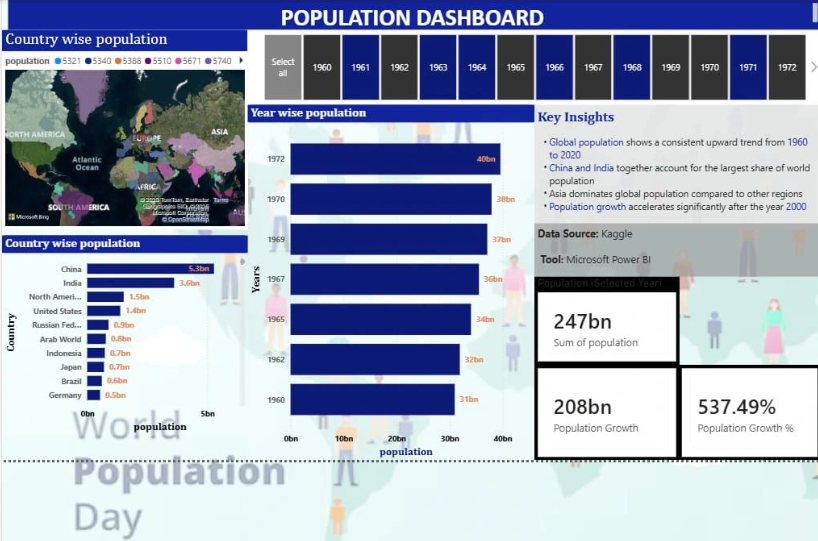

This screenshot's page, from the dashboard's own definition file:
{"tool":"powerbi","page":{"name":"Page 2","canvas":[1280,720],"ordinal":1},"visuals":[{"type":"textbox","box":[9.4,0,1269.9,47.2],"z":0},{"type":"filledMap","title":"Country wise population","fields":{"Category":["global.Country"],"Series":["global.population"]},"box":[0,47.2,383.6,311.8],"z":1000},{"type":"clusteredBarChart","title":"Country wise population ","fields":{"Category":["global.Country"],"Y":["Sum(global.population)"]},"box":[0,369,384,312],"z":2000},{"type":"slicer","fields":{"Values":["global.years"]},"box":[383.6,47.2,895.8,117.2],"z":3000},{"type":"barChart","title":"Year wise population ","fields":{"Y":["Sum(global.population)"],"Category":["global.years"]},"box":[383.6,164.4,447.9,555.6],"z":4000},{"type":"textbox","box":[831.5,164.4,447.9,194.6],"z":5000},{"type":"cardVisual","title":"Population (Selected Year)","fields":{"Data":["Sum(global.population)"]},"box":[831.5,432.8,226.8,138],"z":6000},{"type":"cardVisual","fields":{"Data":["global.Population Growth"]},"box":[831.5,570.7,226.8,149.3],"z":7000},{"type":"cardVisual","fields":{"Data":["global.Population Growth %"]},"box":[1056.4,570.7,223,149.3],"z":8000},{"type":"textbox","box":[831.5,349.6,447.9,83.2],"z":9000}]}

Visuals, with their boxes on the page's 1280x720 design canvas (x1, y1, x2, y2). These are canvas units, not pixel positions in the 818x541 screenshot, which may show the page scaled, cropped or inside an application window:
textbox: (9,0,1279,47)
"Country wise population" filledMap: (0,47,384,359)
"Country wise population " clusteredBarChart: (0,369,384,681)
slicer - global.years: (384,47,1279,164)
"Year wise population " barChart: (384,164,832,720)
textbox: (832,164,1279,359)
"Population (Selected Year)" cardVisual: (832,433,1058,571)
cardVisual - global.Population Growth: (832,571,1058,720)
cardVisual - global.Population Growth %: (1056,571,1279,720)
textbox: (832,350,1279,433)
